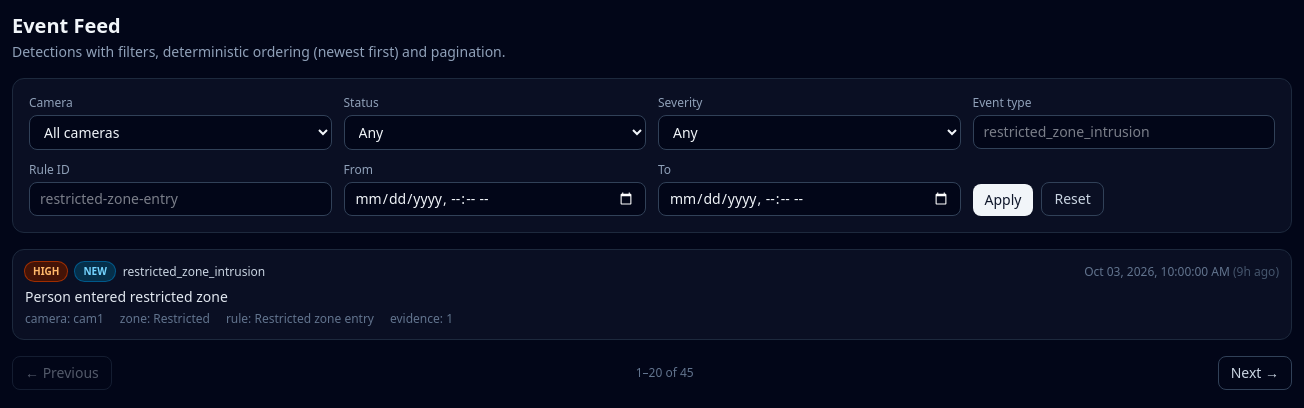
pagination advances offset
Expected: the link with test id "event-row-evt_1" is shown, [12, 249, 1292, 340]
Click the button with test id "page-next" at (1255, 373), box [1218, 356, 1292, 390]
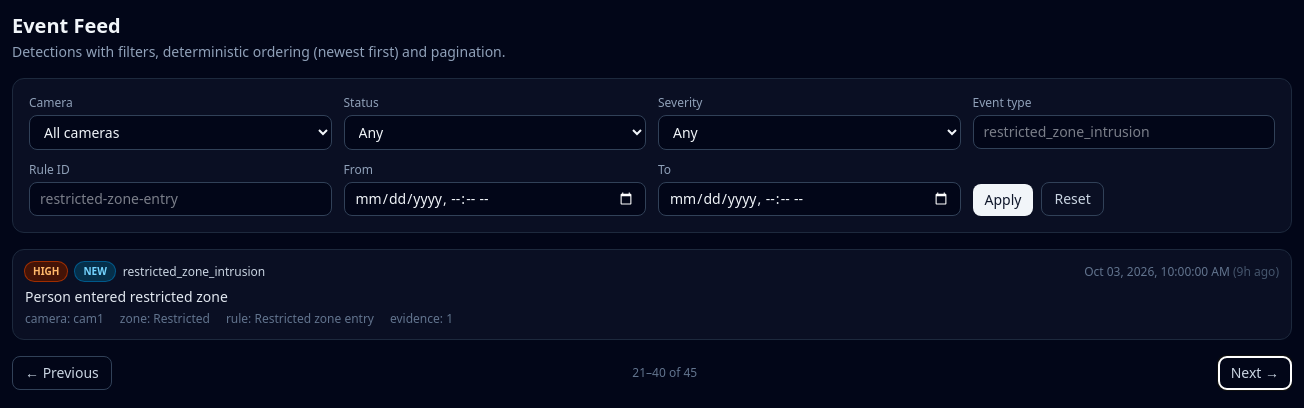
Expected: the button with test id "page-prev" is enabled, [12, 356, 112, 390]
